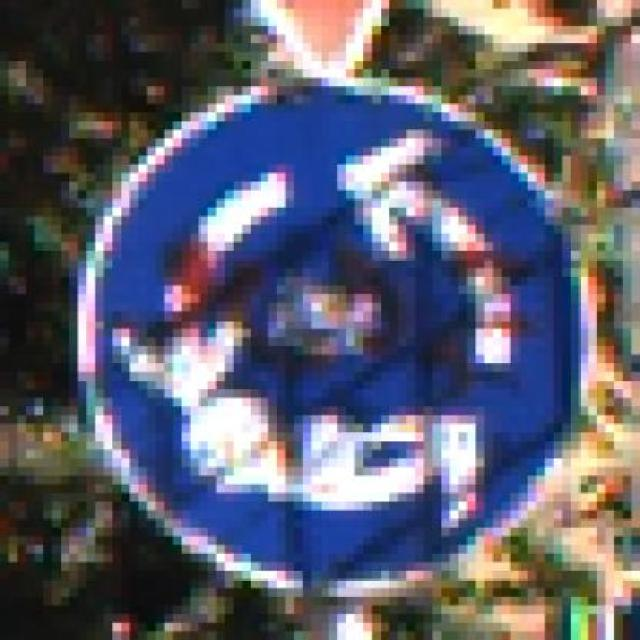Round-About: (61, 61, 605, 605)
